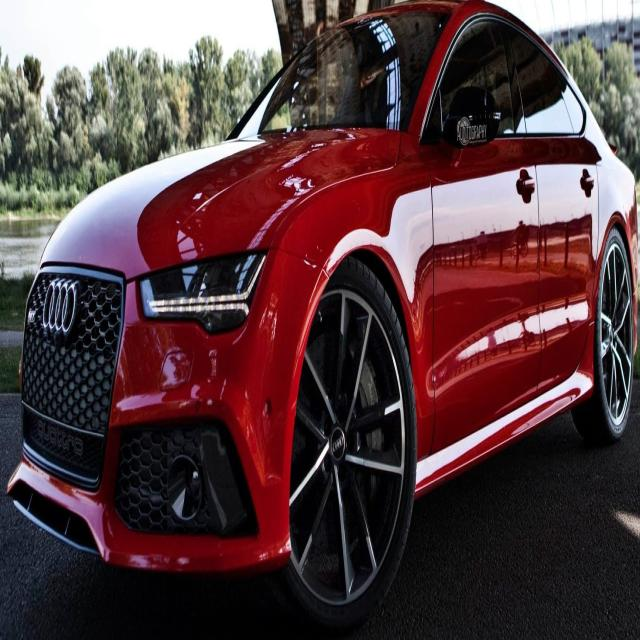red: (10, 0, 640, 581)
